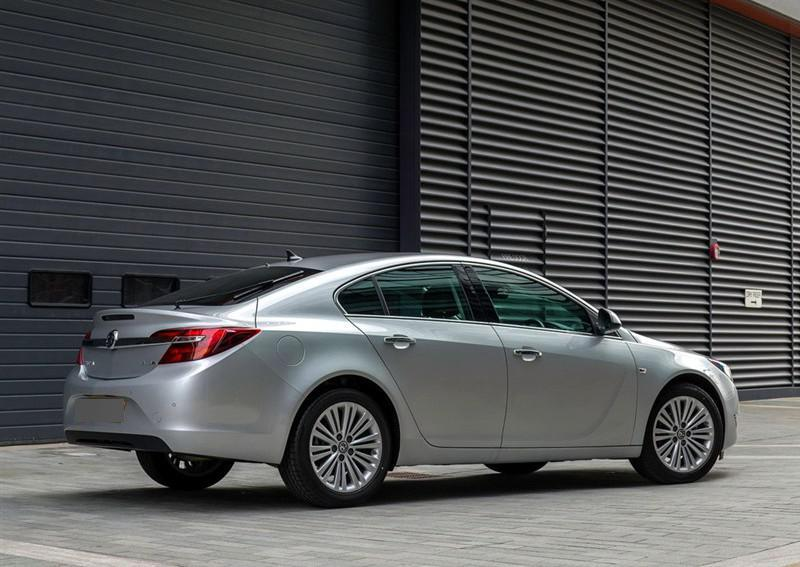Wagon: (60, 248, 743, 508)
